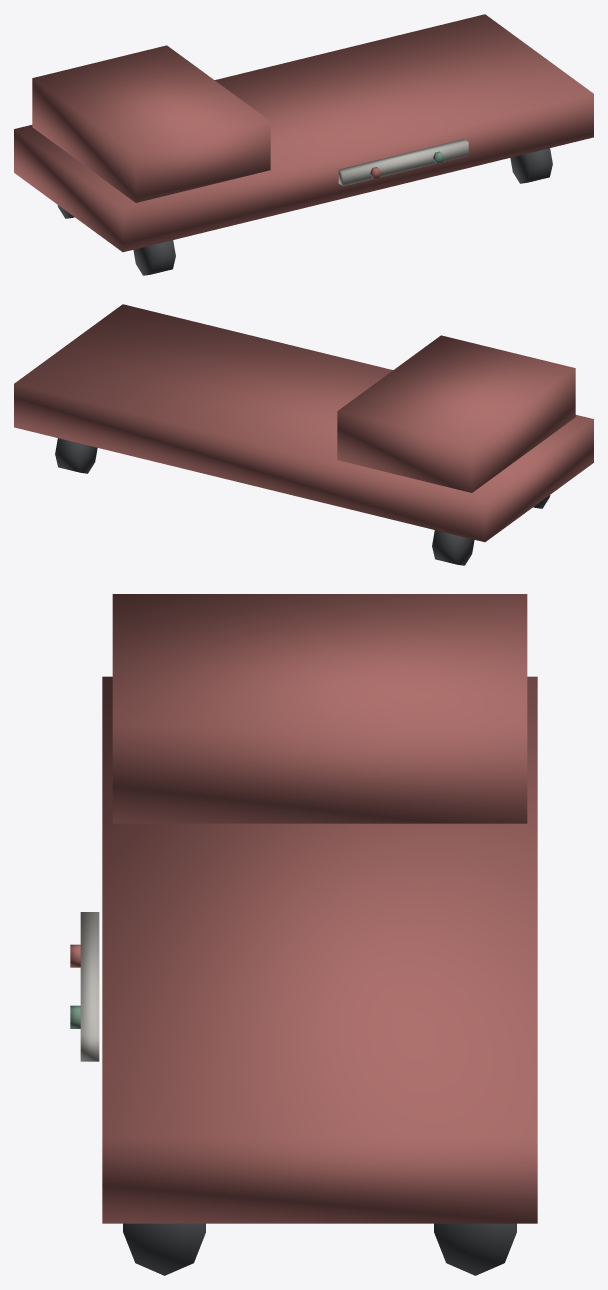
File: mechanic_creeper__tall.glb
3 views of the same model, one above another, from view 1: azimuth 30°, elevation 25°; view 2: azimuth 150°, elevation 25°; view 3: azimuth 270°, elevation 25° (orthographic). The views are drawn at different scales.
Visible parts, largest first — view 1: world; view 2: world; view 3: world.
Part boxes in pixels (<box>): world: <box>14,14,593,275</box>; world: <box>14,304,593,565</box>; world: <box>70,594,537,1275</box>.
Bounding box in the file's own units: 1.05 × 0.29 × 0.451.
